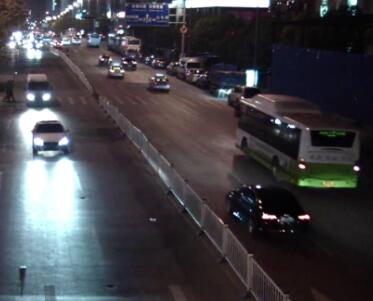bus: (231, 94, 362, 191), (113, 31, 141, 57), (86, 31, 102, 48), (107, 31, 117, 49)
car: (223, 184, 313, 239), (30, 120, 72, 156), (205, 60, 247, 95), (26, 73, 53, 106), (177, 56, 201, 78), (148, 71, 169, 91), (185, 66, 206, 84), (107, 61, 124, 79), (122, 54, 138, 70), (166, 60, 179, 78), (97, 53, 113, 67), (152, 56, 166, 69), (59, 35, 71, 46), (71, 34, 82, 45), (143, 54, 153, 66), (51, 37, 60, 47)
